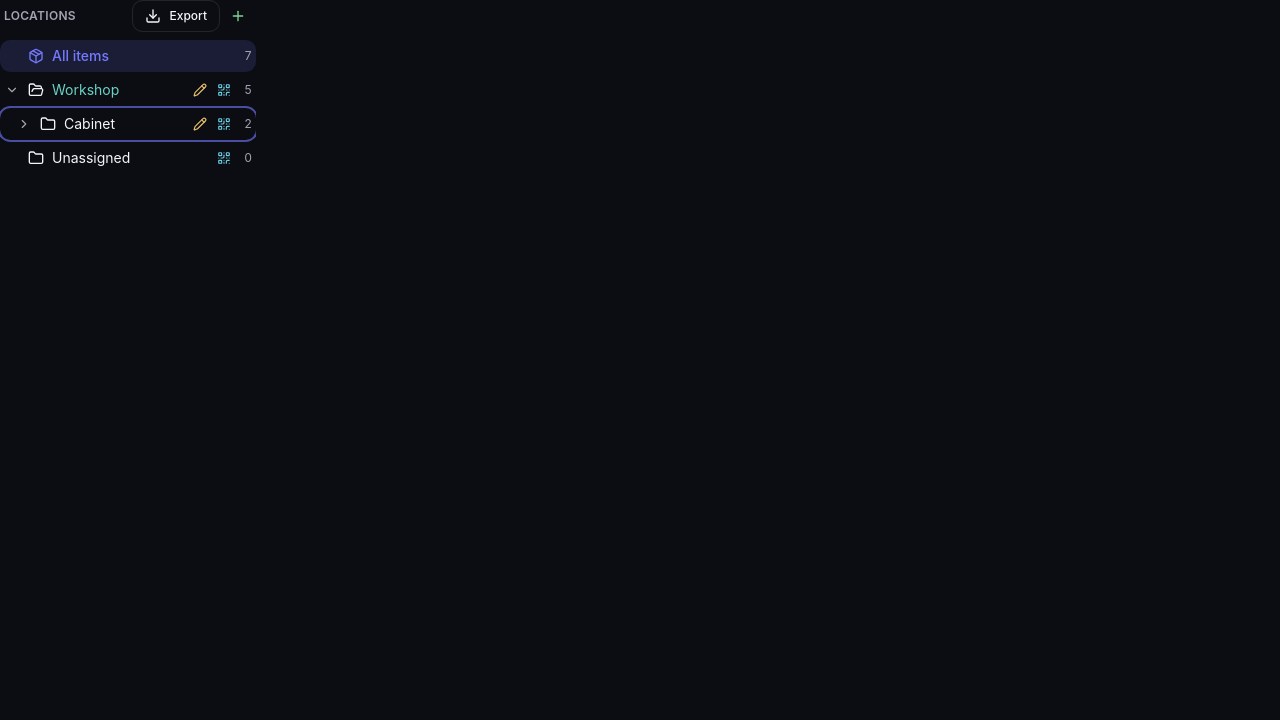
Test: LocationSidebar — accessible APG tree › names the sub-locations and the items below a location that homes nothing itself (#823)
Press ArrowRight in the list item "Cabinet", box [0,108,256,140]
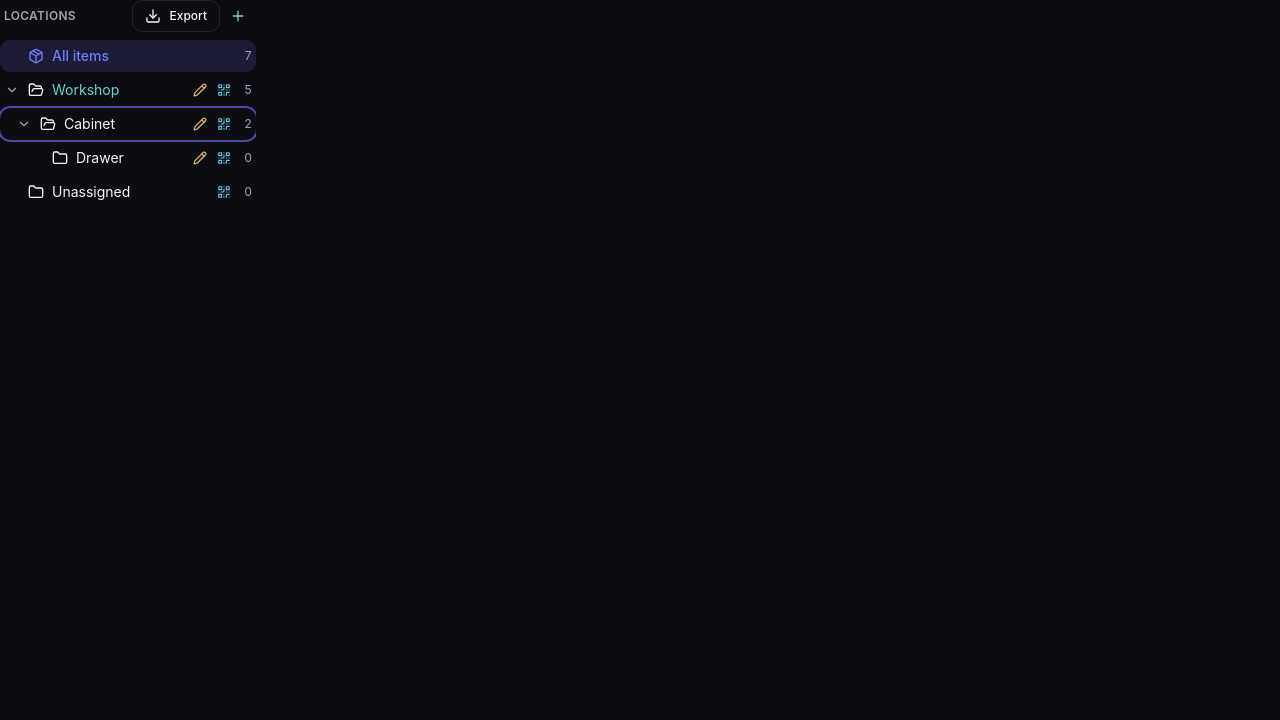
Click the button named "Edit Drawer" at (200, 158), box [188,146,212,170]
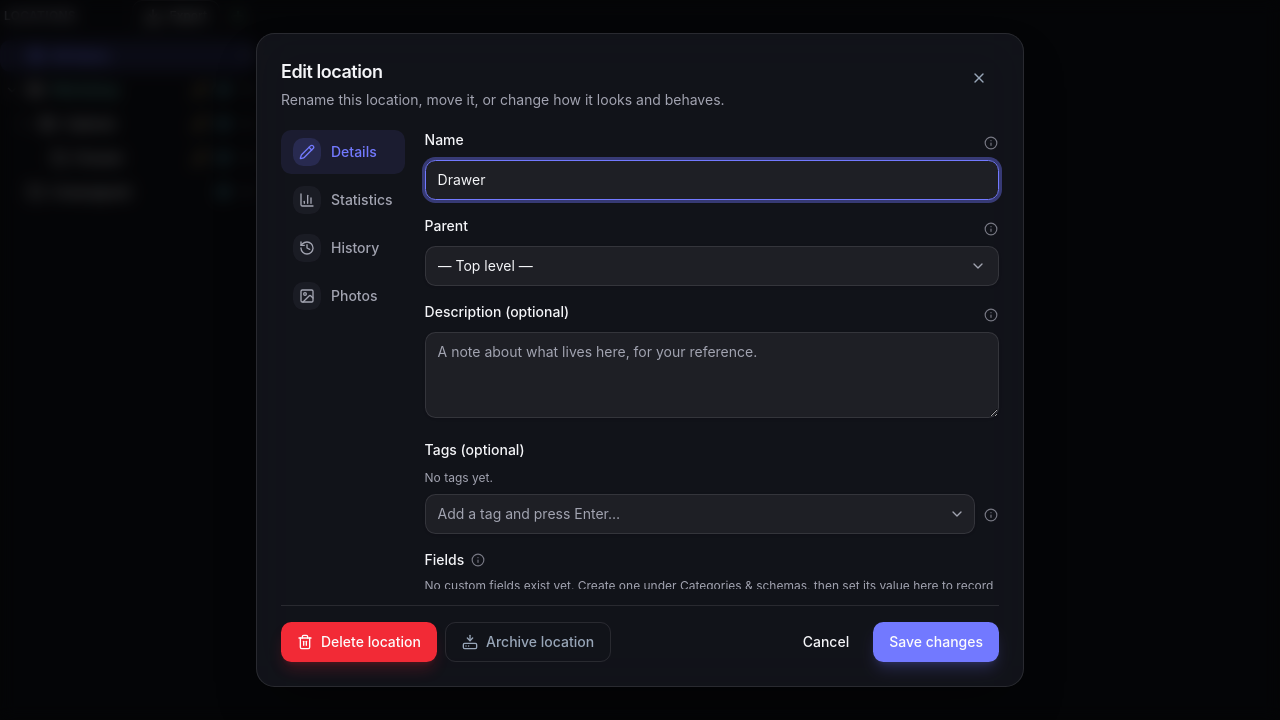
Click the button with test id "edit-location-delete" at (359, 642), box [281,622,437,662]
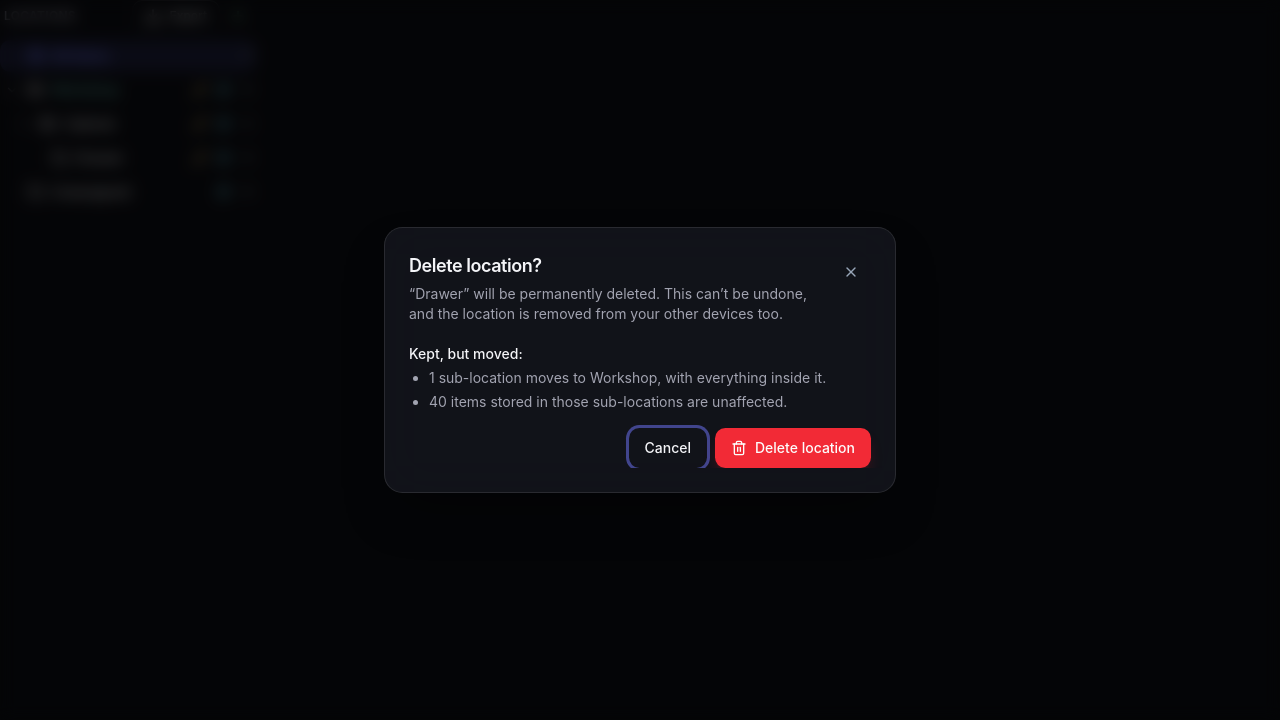
Expected: the dialog "Delete location?" shows "1 sub-location moves to Workshop", [429,369,826,386]
Expected: the dialog "Delete location?" shows "40 items stored in those sub-locations are unaffected.", [429,393,787,410]
